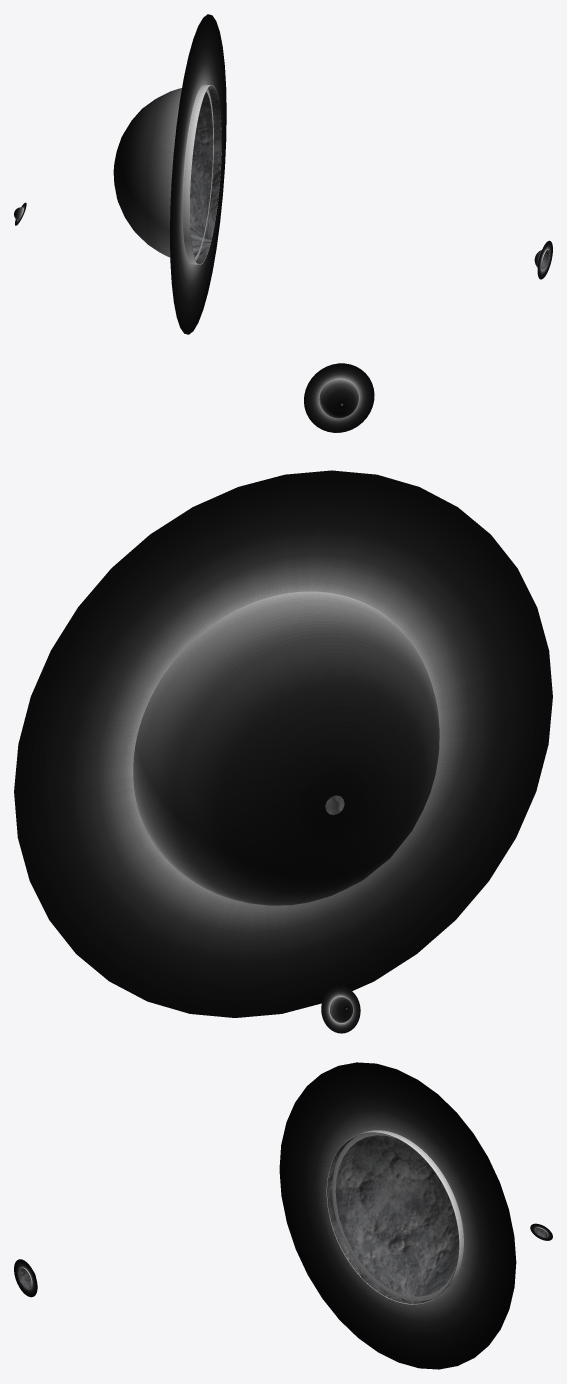
Rendered from env_space_dathomir_01_pre.glb.
The picture shows the model from 3 angles, top to bottom: view 1: azimuth 30°, elevation 25°; view 2: azimuth 150°, elevation 25°; view 3: azimuth 270°, elevation 25°; orthographic projection. The views are drawn at different scales.
Parts seen in each view (by area): view 1: planet_fresnel_mesh, planet_glow_mesh, planet_body_mesh; view 2: planet_glow_mesh (×3), planet_fresnel_mesh (×2); view 3: planet_glow_mesh (×2), planet_body_mesh, planet_fresnel_mesh.
Part boxes in pixels (x1,y1,x2,y2): planet_fresnel_mesh: [113, 85, 221, 264]; planet_glow_mesh: [170, 14, 226, 334]; planet_body_mesh: [190, 85, 221, 264]; planet_glow_mesh (×3): [14, 363, 552, 1033]; planet_fresnel_mesh (×2): [133, 378, 439, 905]; planet_glow_mesh (×2): [14, 1062, 516, 1369]; planet_body_mesh: [327, 1132, 459, 1303]; planet_fresnel_mesh: [326, 1130, 463, 1304].
Size of the model in its own units: 781 by 784 by 1308.
3 materials, 3 textured.
